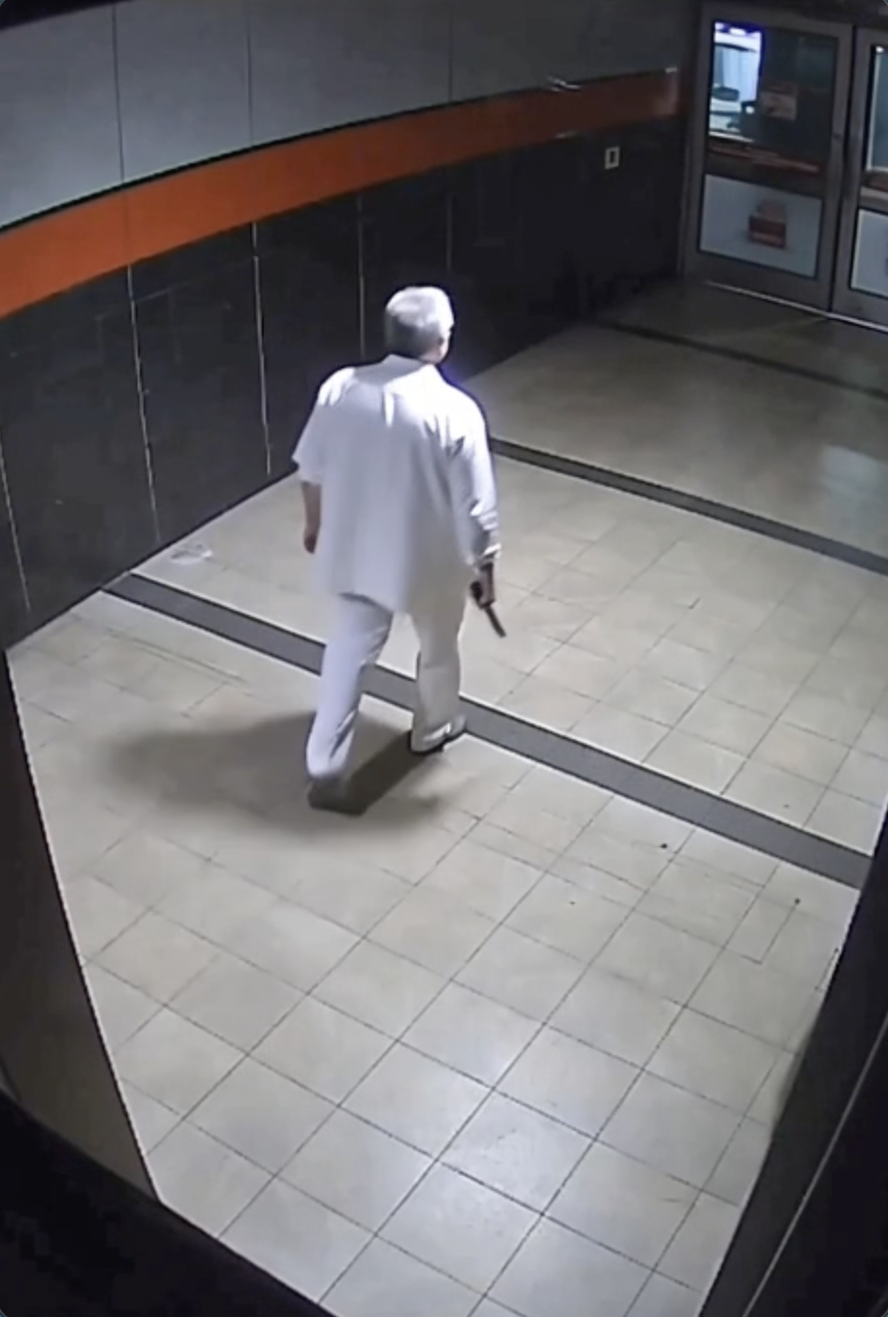Heavy Gun: (285, 278, 497, 807)
Knife: (465, 571, 513, 641)
